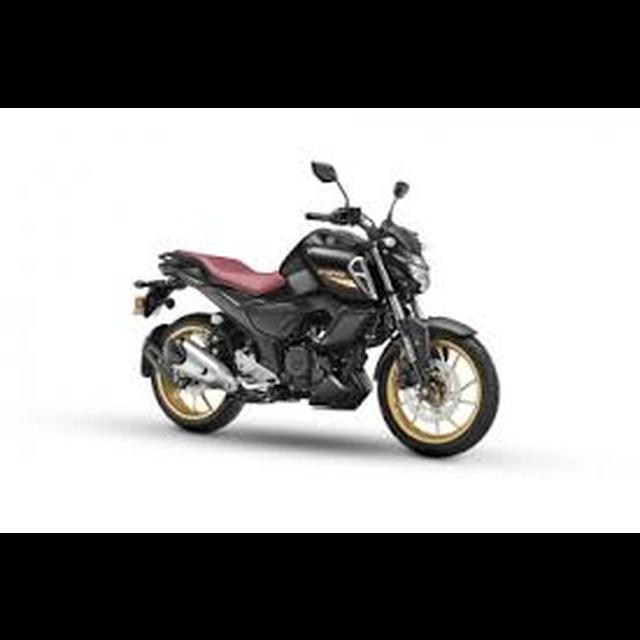motorcycle: (127, 155, 503, 466)
